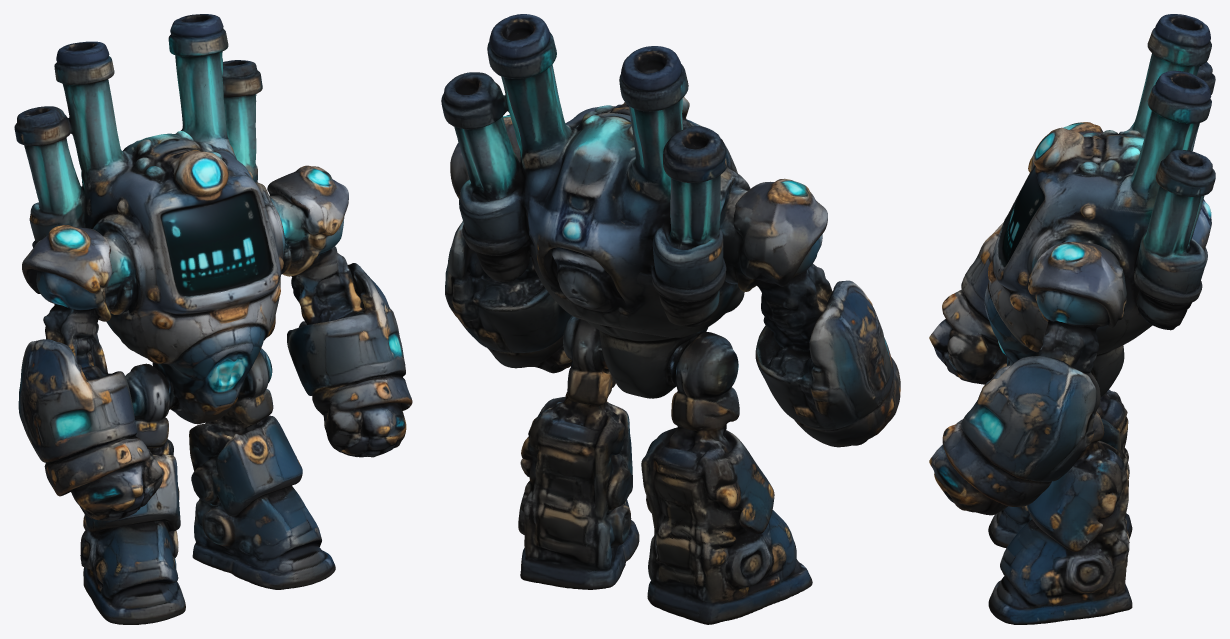
The model's file is VOLUMAX-Copilot.glb.
3 views of the same model, side by side, from view 1: azimuth 30°, elevation 25°; view 2: azimuth 150°, elevation 25°; view 3: azimuth 270°, elevation 25° (orthographic). The views are drawn at different scales.
Parts seen in each view (by area): view 1: world; view 2: world; view 3: world.
Part boxes in pixels (x1,y1,x2,y2): world: [14, 14, 412, 624]; world: [441, 14, 900, 624]; world: [929, 14, 1215, 624].
Size of the model in its own units: 0.7434 by 1 by 0.498.
1 material, 1 textured.
